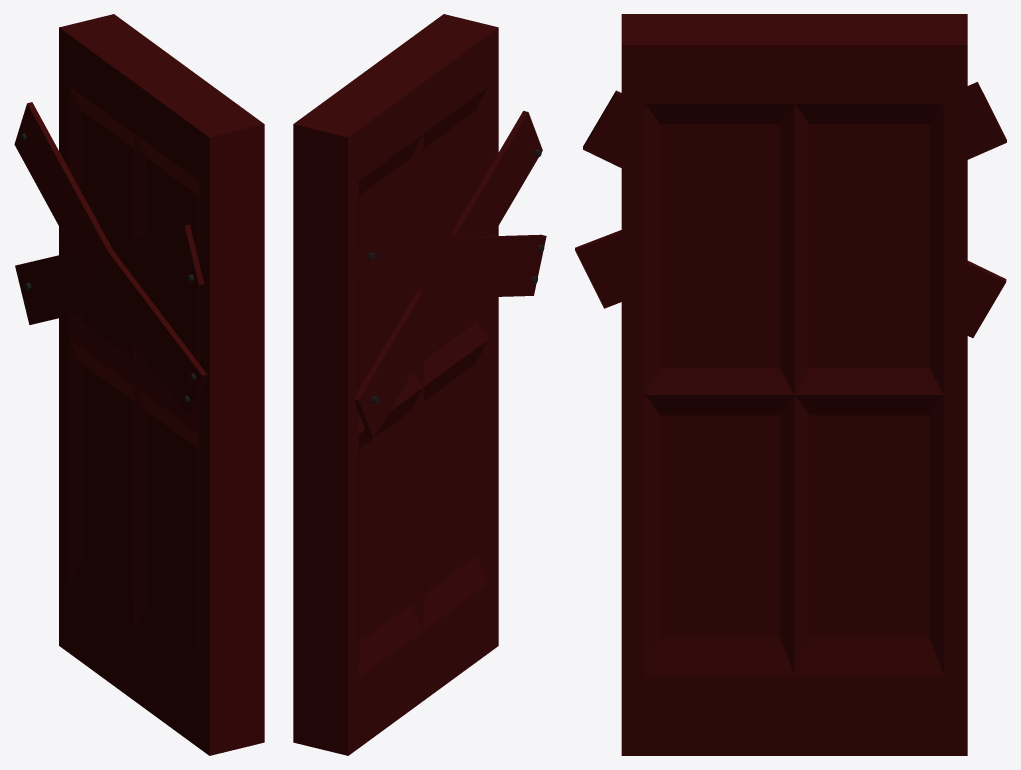
File: porta.glb
The picture shows the model from 3 angles, left to right: view 1: azimuth 30°, elevation 25°; view 2: azimuth 150°, elevation 25°; view 3: azimuth 270°, elevation 25°; orthographic projection. The views are drawn at different scales.
Parts seen in each view (by area): view 1: Door.004, Cube.008; view 2: Door.004, Cube.008; view 3: Door.004, Cube.008.
Part boxes in pixels (box(x1,y1,x2,y2)): Door.004: box(59, 14, 264, 755); Cube.008: box(14, 102, 207, 416); Door.004: box(293, 14, 498, 755); Cube.008: box(353, 111, 546, 438); Door.004: box(621, 14, 967, 755); Cube.008: box(575, 82, 1006, 337).
Bounding box in the file's own units: 0.5057 × 3.31 × 1.82.
